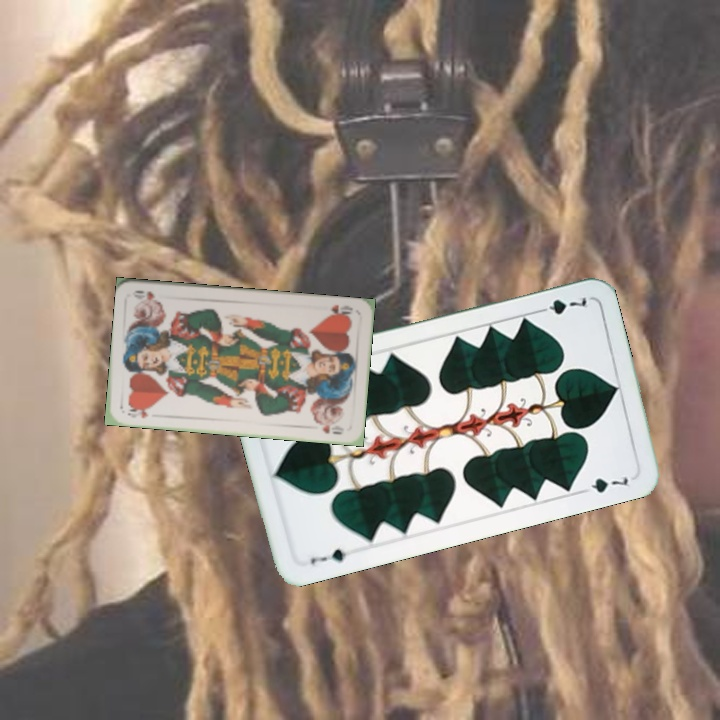G7: (532, 293, 590, 318), (306, 544, 349, 567)
HO: (326, 301, 355, 320), (124, 403, 153, 421)
